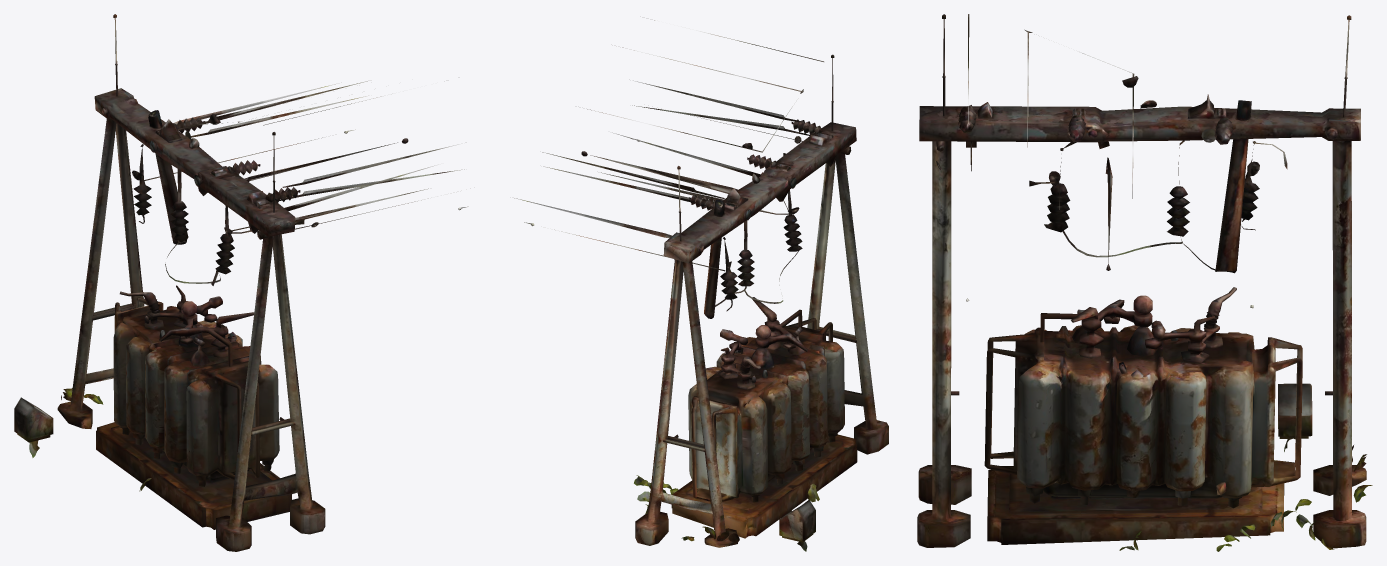
File: landmark-substation.glb
3 views of the same model, side by side, from view 1: azimuth 30°, elevation 25°; view 2: azimuth 150°, elevation 25°; view 3: azimuth 270°, elevation 25° (orthographic). The views are drawn at different scales.
Parts seen in each view (by area): view 1: landmark-substation; view 2: landmark-substation; view 3: landmark-substation.
Part boxes in pixels (x1,y1,x2,y2): landmark-substation: [14, 14, 468, 551]; landmark-substation: [514, 20, 888, 551]; landmark-substation: [917, 14, 1372, 551].
Size of the model in its own units: 0.8315 by 0.9995 by 0.812.
Materials: 1 (1 with a texture image).
